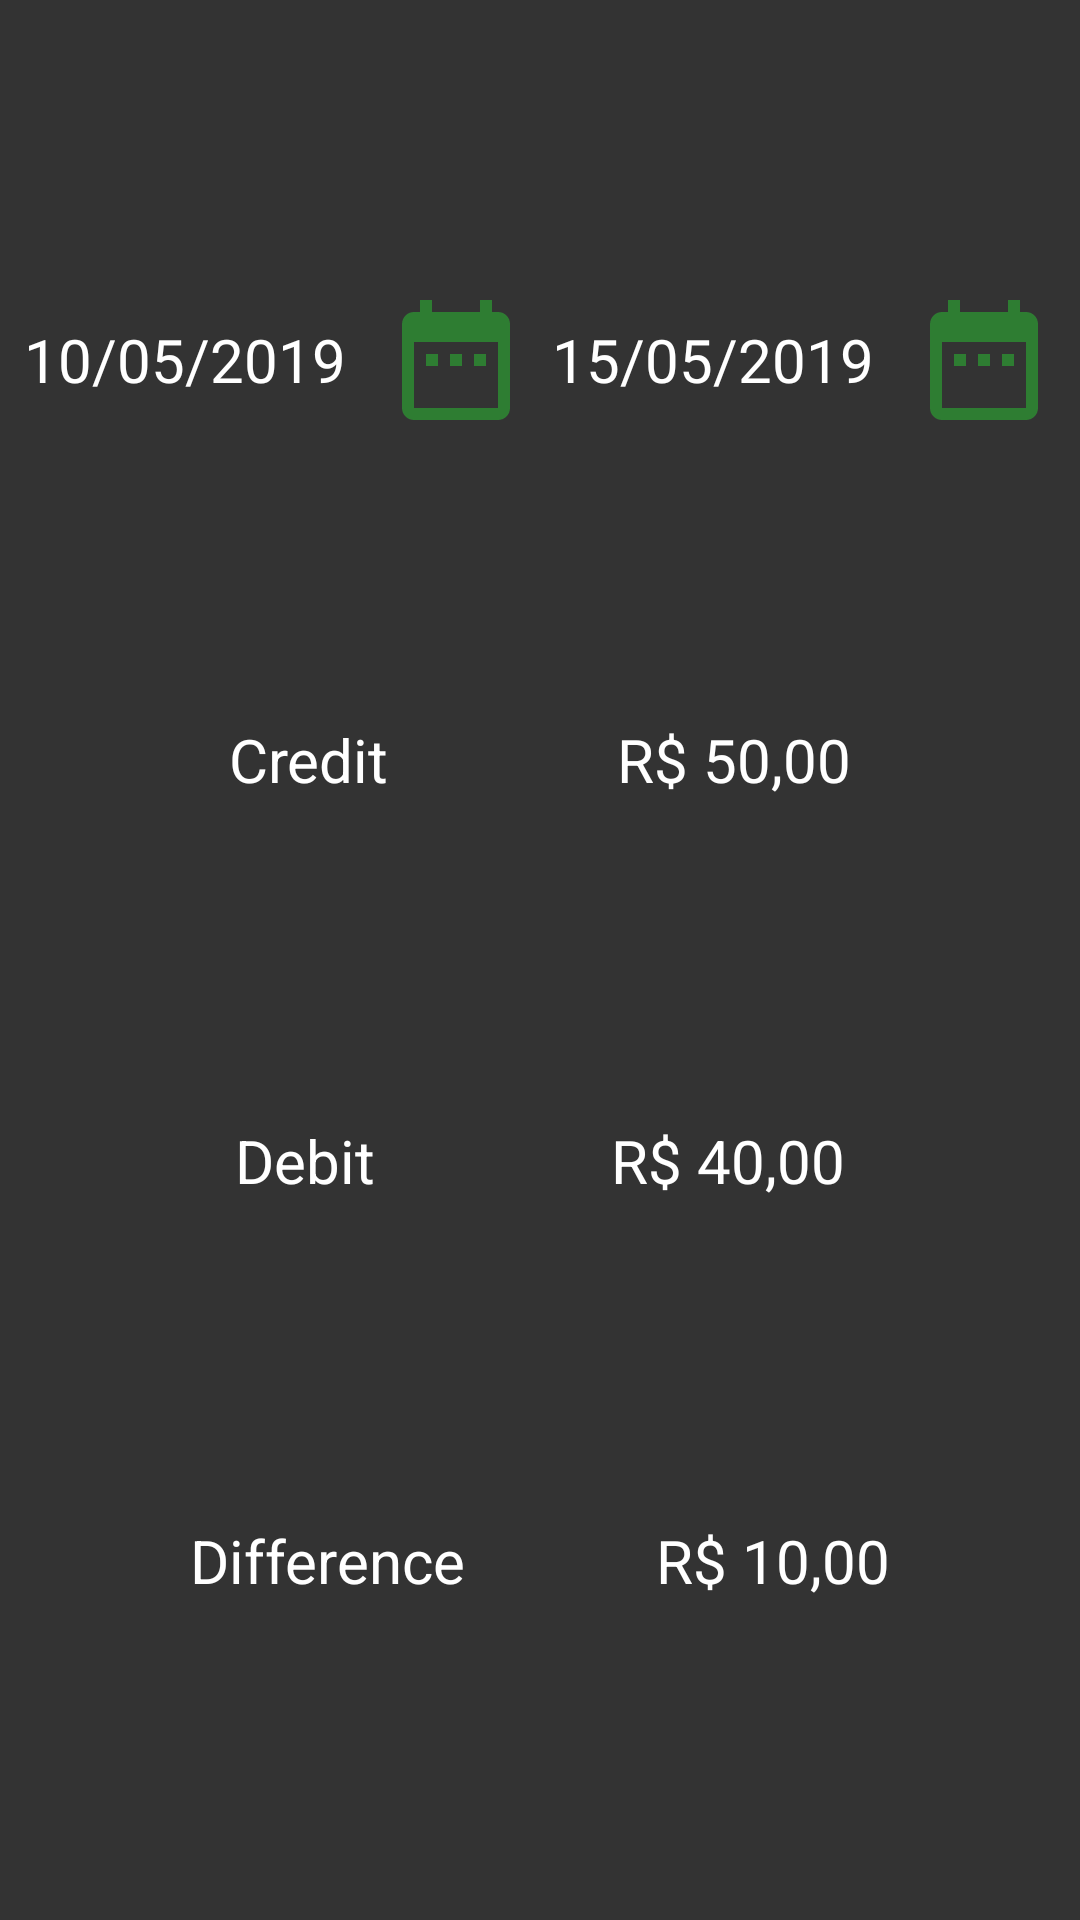

Screen size 1080x1920. Icon name, then its center in pixels as point (x, y):
date: point (456, 360), point (984, 360)
